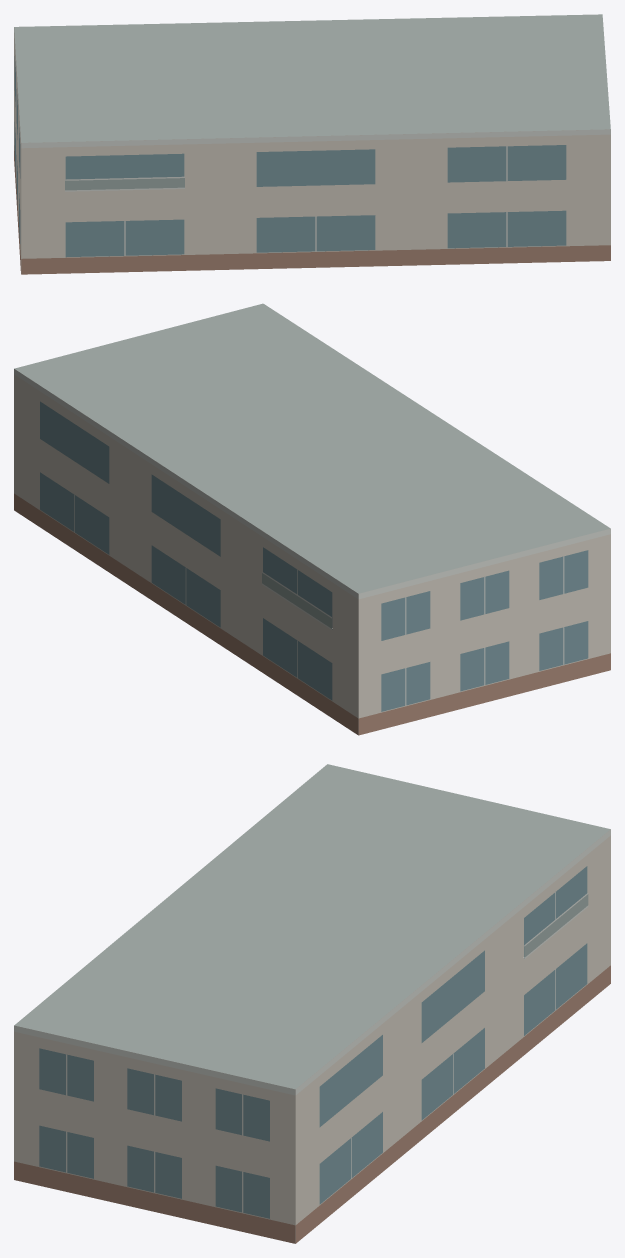
The model's file is survey-upis-32597070.glb.
The picture shows the model from 3 angles, top to bottom: view 1: azimuth 30°, elevation 25°; view 2: azimuth 150°, elevation 25°; view 3: azimuth 270°, elevation 25°; orthographic projection. The views are drawn at different scales.
Parts seen in each view (by area): view 1: survey-upis-32597070.tmp; view 2: survey-upis-32597070.tmp; view 3: survey-upis-32597070.tmp.
Boxes of the visible parts, left/top/right/bottom form: survey-upis-32597070.tmp: left=14, top=14, right=610, bottom=274; survey-upis-32597070.tmp: left=14, top=303, right=610, bottom=735; survey-upis-32597070.tmp: left=14, top=764, right=610, bottom=1243.
Bounding box in the file's own units: 27.56 × 6.1 × 21.36.
